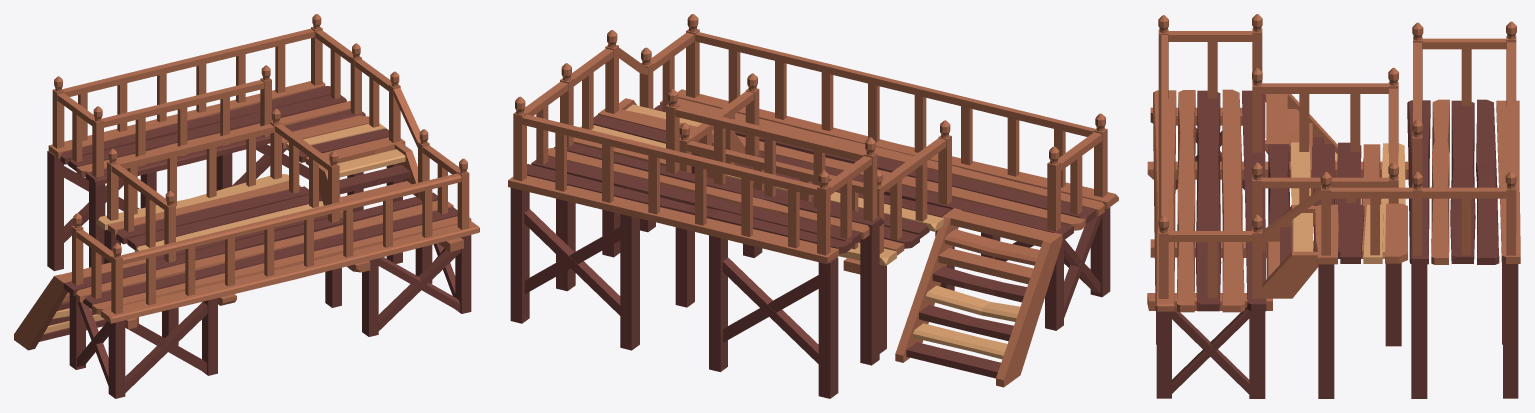
The model's file is Execution Tribun 03.fbx.
3 views of the same model, side by side, from view 1: azimuth 30°, elevation 25°; view 2: azimuth 150°, elevation 25°; view 3: azimuth 270°, elevation 25° (orthographic). The views are drawn at different scales.
Visible parts, largest first — view 1: Execution Tribun 03; view 2: Execution Tribun 03; view 3: Execution Tribun 03.
Boxes of the visible parts, x1,y1,x2,y2 form: Execution Tribun 03: [14, 14, 479, 398]; Execution Tribun 03: [508, 14, 1118, 398]; Execution Tribun 03: [1147, 14, 1520, 398].
Bounding box in the file's own units: 811 × 414 × 594.
